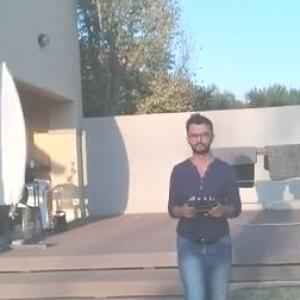follow: (161, 107, 249, 299)
